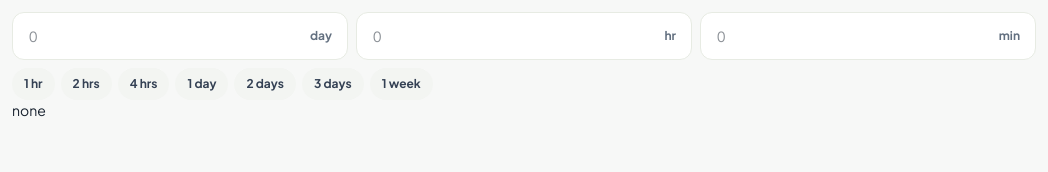
Test case: DurationInput for a job that may take days › stops at the limit and shows it as the limit, not as an overflowing number
Type "30" into the field named "Days". click: (180, 36)
box: [12,12,348,60]
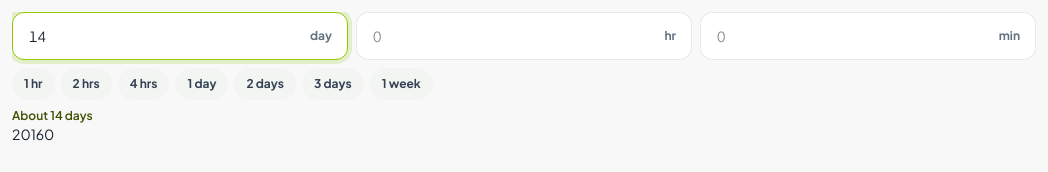
Expected: the field named "Days" holds "14", [12,12,348,60]
Expected: the text "About 14 days" is shown, [12,108,93,123]
